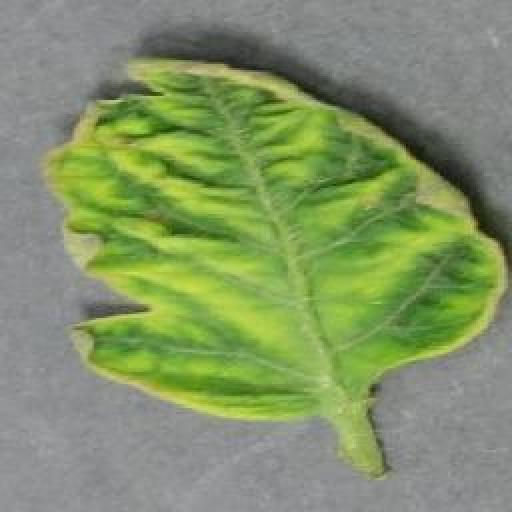disease_tomato: (42, 54, 510, 422)
